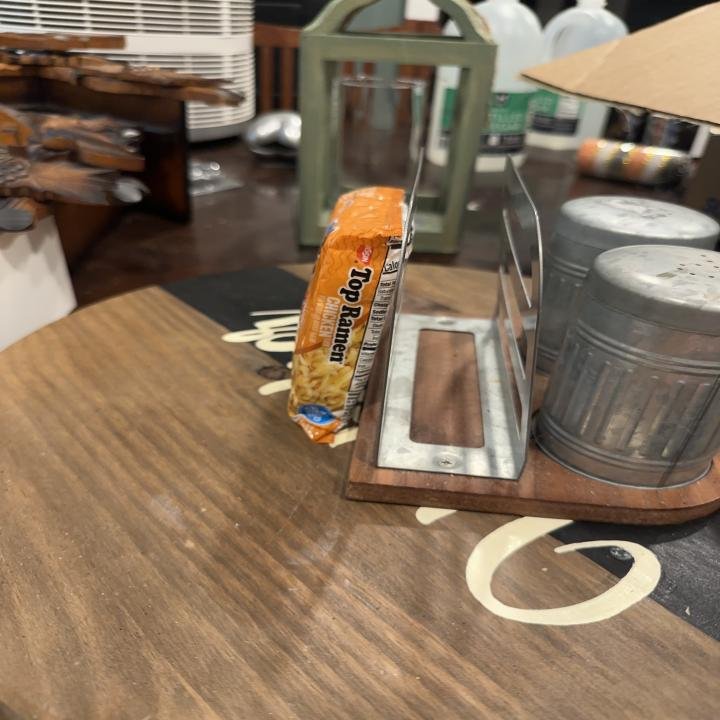Ramen: (292, 183, 408, 446)
